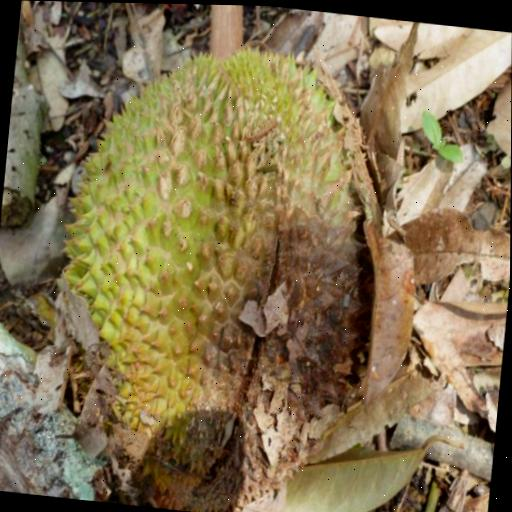rot: (34, 3, 427, 512)
